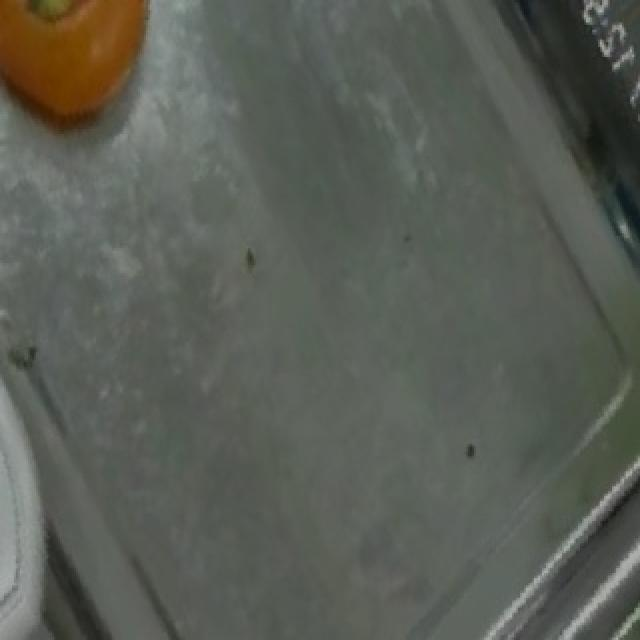Fruit: (0, 0, 182, 149)
